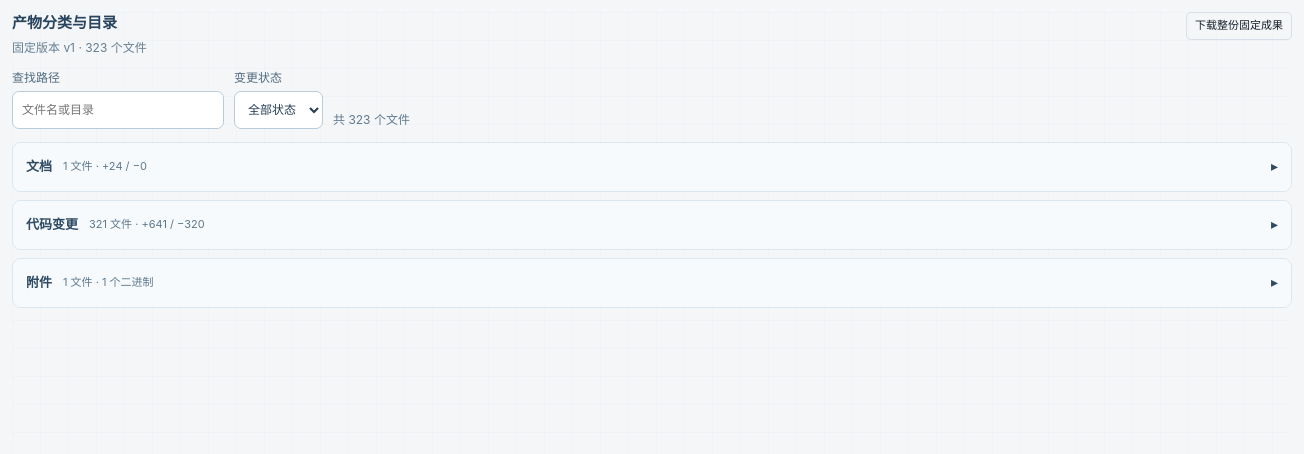
Scenario: 固定产物目录 › 按路径和状态找重命名，保留旧路径、行数与固定版本，二进制不捏造行数
Type "旧文件" into the search field labelled "查找路径".
click(118, 110); type("旧文件")  # box [12,90,224,128]
Select "重命名" in the dropdown labelled "变更状态" at (278, 110), box [234,90,323,128]
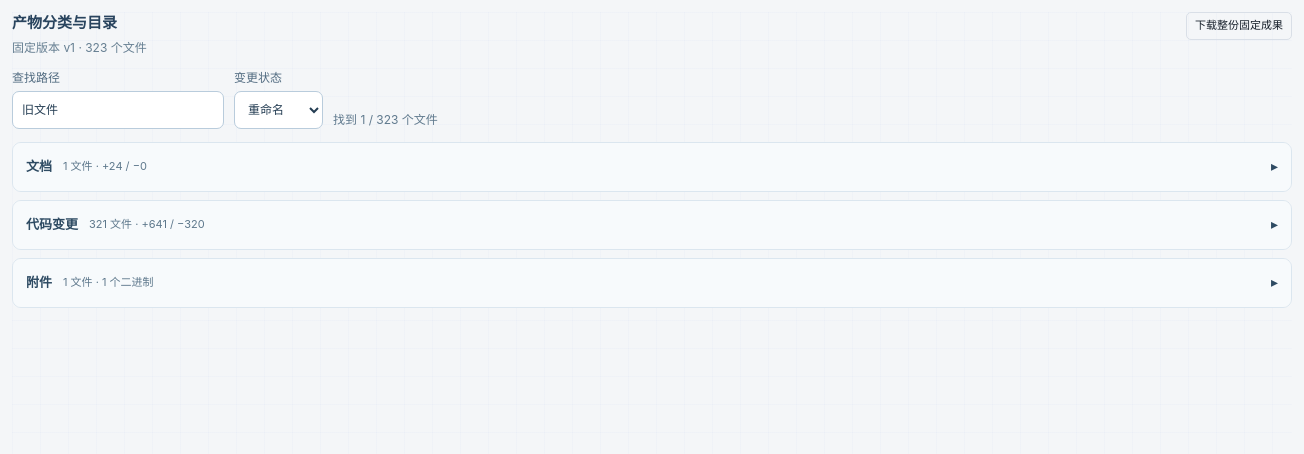
Click the button with class "category-button" showing "代码变更 321 文件 · +641 / −320 ▸".
click(52, 224)  # box [13,200,1291,248]
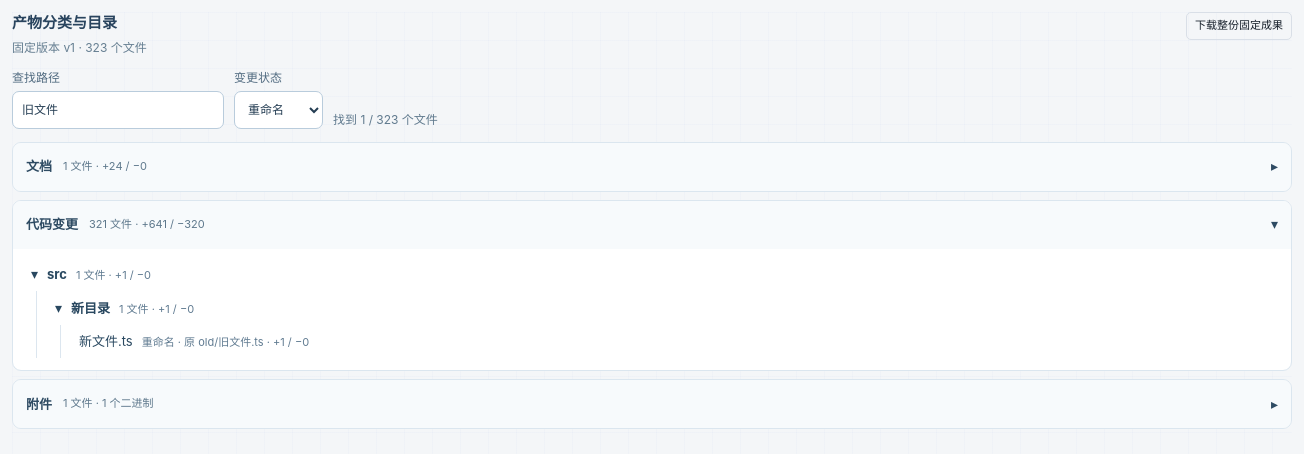
Result: the text "找到 1 / 323 个文件" is shown at [333,111,438,128]
Result: the button with class "file-button" shows "原 old/旧文件.ts" at [71,325,1281,358]
Result: the button with class "file-button" shows "+1 / −0" at [71,325,1281,358]
Clear the search field labelled "查找路径" at (118, 110), box [12,90,224,128]
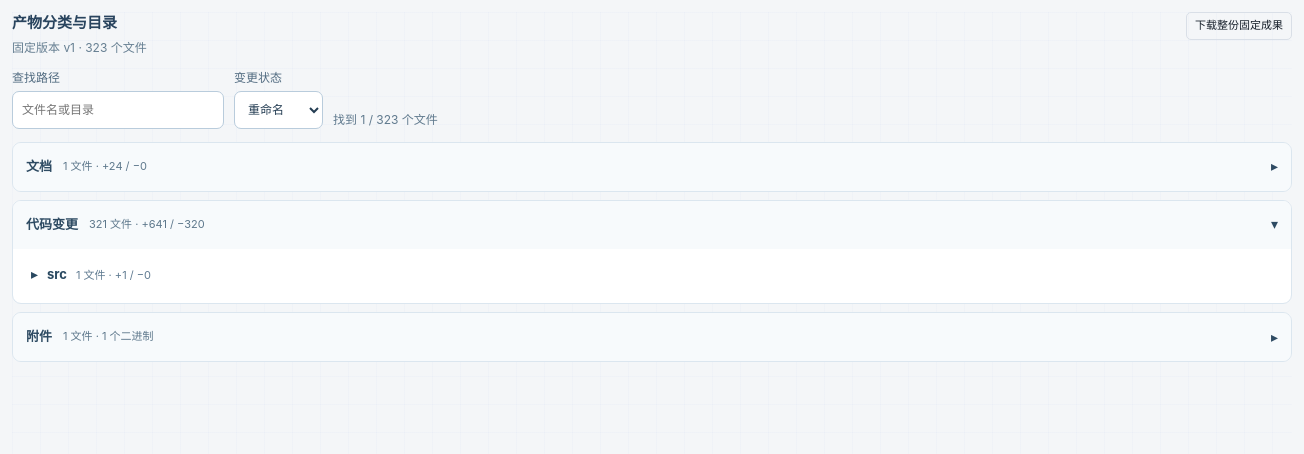
Select "新增" in the dropdown labelled "变更状态" at (278, 110), box [234,90,323,128]
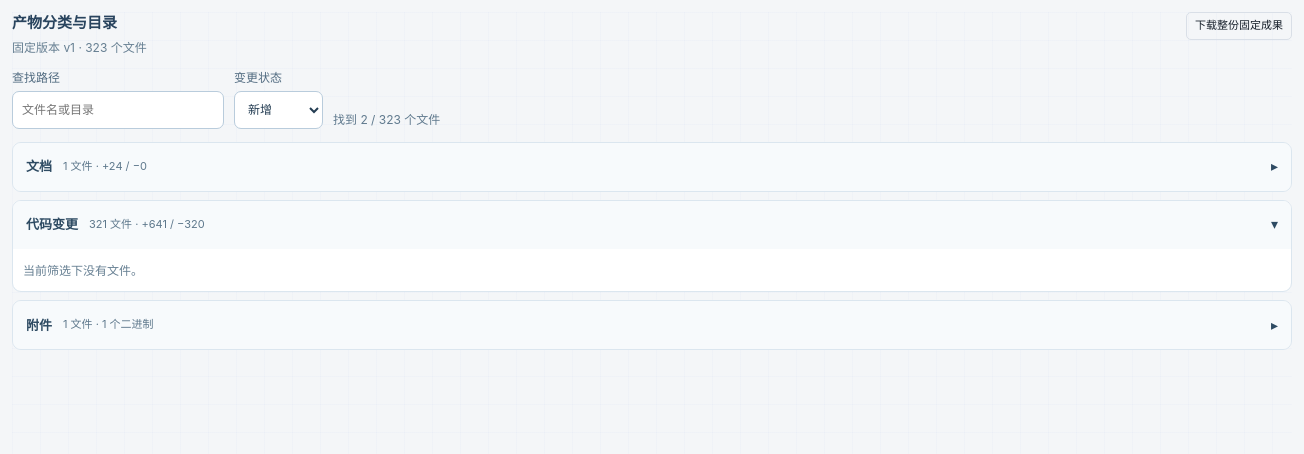
Click the button with class "category-button" showing "附件 1 文件 · 1 个二进制 ▸".
click(123, 324)  # box [13,301,1291,349]
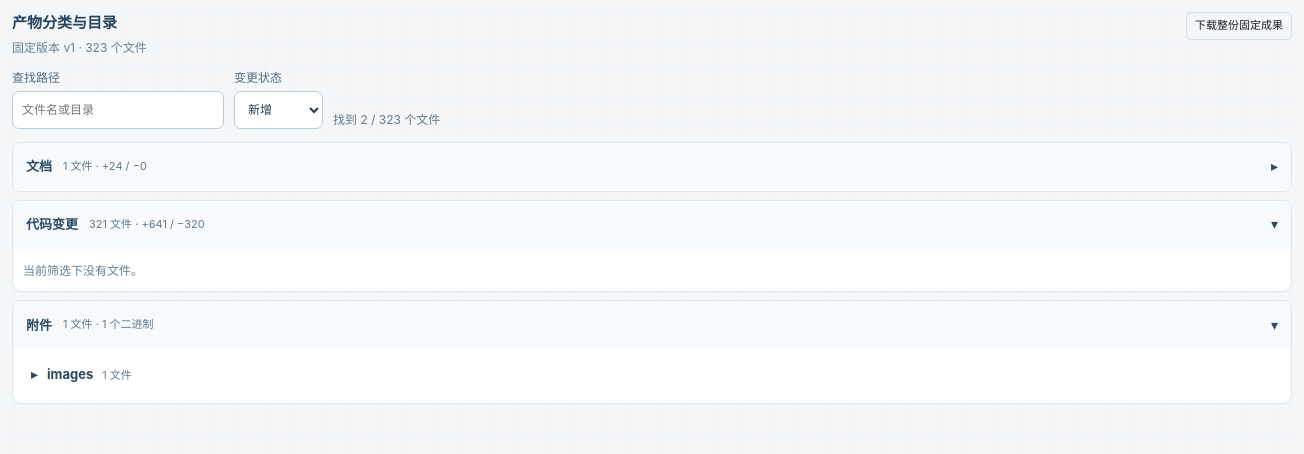
Click the button with class "folder-button".
click(70, 374)  # box [23,357,1281,391]
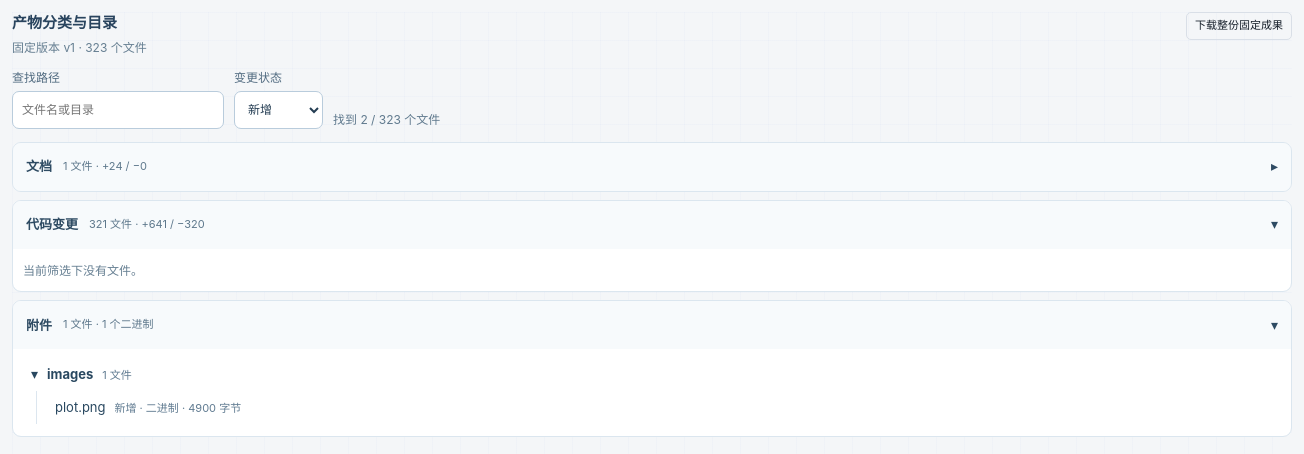
Result: the text "二进制 · 4900 字节" is shown at [136,401,241,415]
